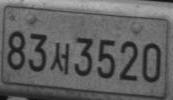0: (141, 41, 161, 83)
2: (118, 39, 138, 81)
3: (27, 32, 47, 72), (73, 37, 93, 77)
5: (96, 38, 115, 78)
8: (6, 30, 26, 70)
서: (49, 42, 69, 74)
